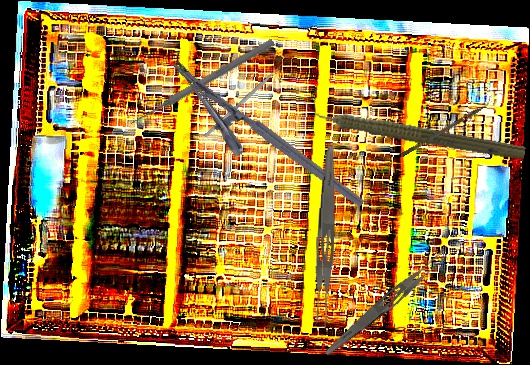Chopper: (397, 95, 496, 158)
Dressing Forceps: (322, 247, 451, 362), (311, 144, 338, 330)
Handpiece: (298, 98, 528, 164)
Needle Holder: (152, 58, 366, 235)
Pusher: (128, 36, 276, 129), (203, 58, 290, 138)
